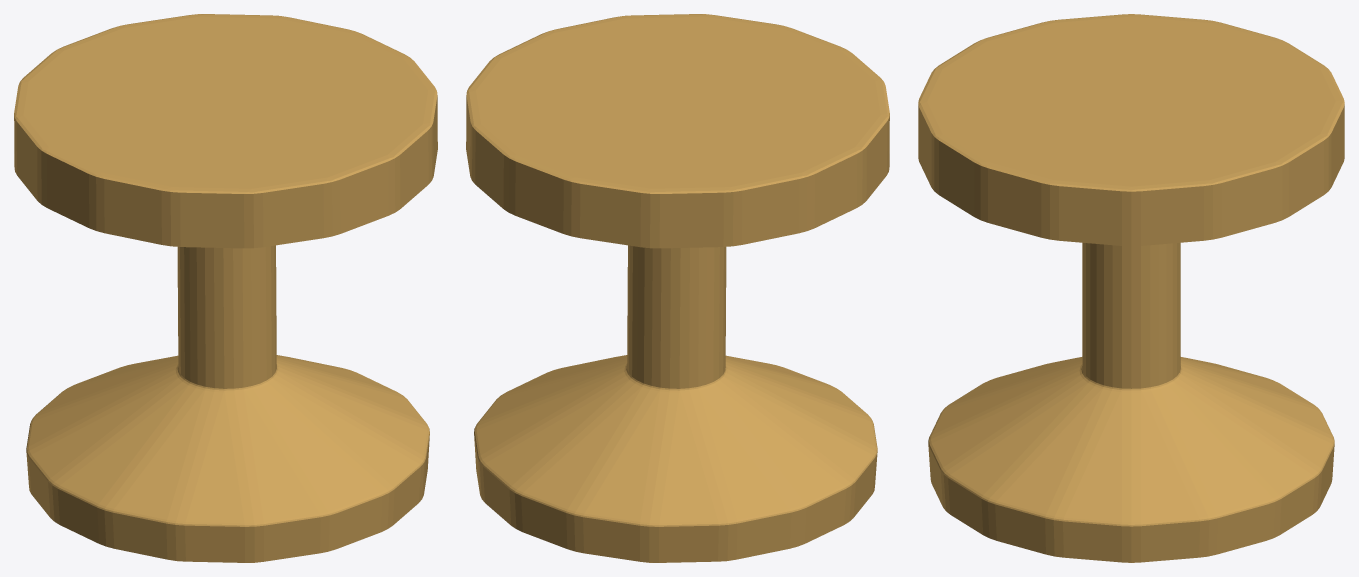
The model's file is styl 2.fbx.
3 renders of one model, left to right at view 1: azimuth 30°, elevation 25°; view 2: azimuth 150°, elevation 25°; view 3: azimuth 270°, elevation 25°, orthographic.
Parts seen in each view (by area): view 1: Cylinder.013; view 2: Cylinder.013; view 3: Cylinder.013.
Boxes of the visible parts, x1,y1,x2,y2 form: Cylinder.013: (14,14,437,562); Cylinder.013: (466,14,889,562); Cylinder.013: (918,14,1344,562).
Bounding box in the file's own units: 17.73 × 17.43 × 17.71.
